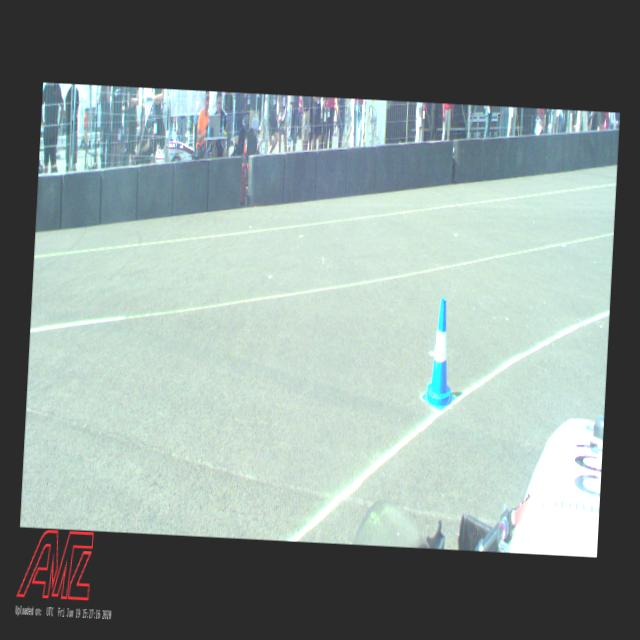blue_cone: (421, 298, 460, 412)
